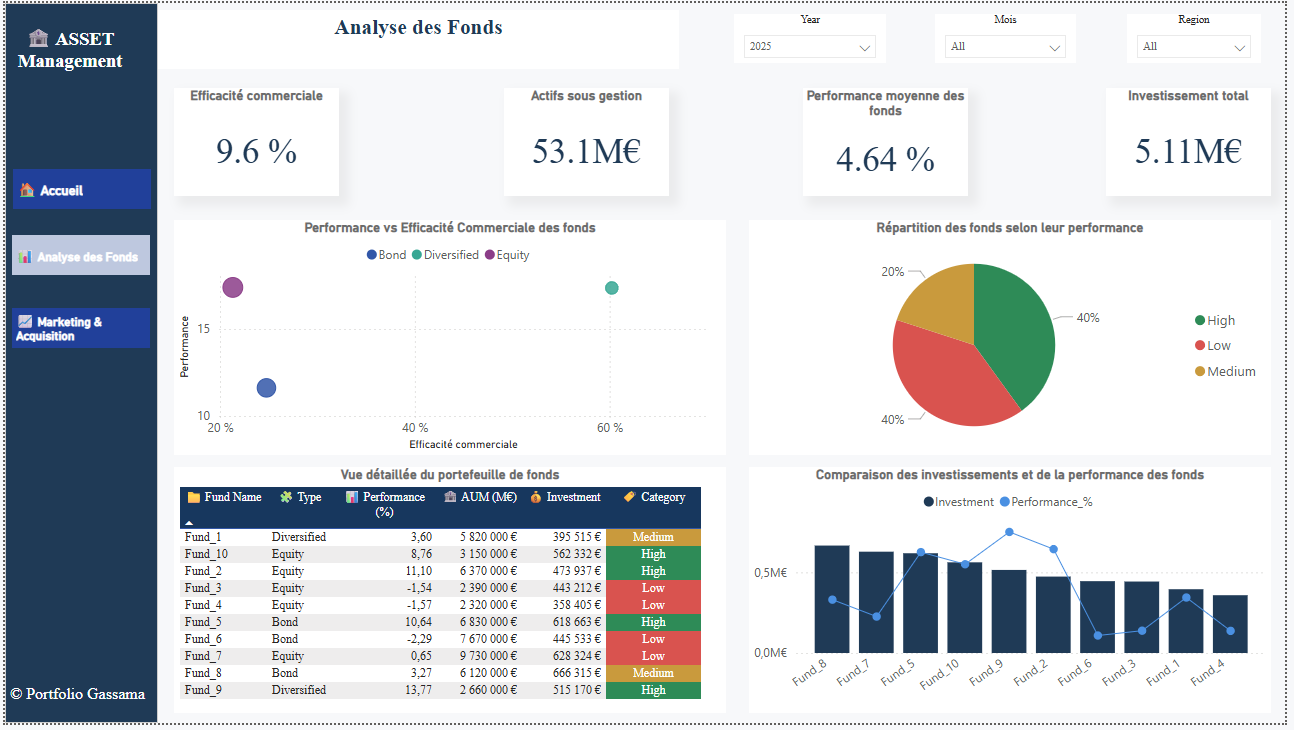

This screenshot's page, from the dashboard's own definition file:
{"tool":"powerbi","page":{"name":"Analyse des Fonds","canvas":[1280,720],"ordinal":1},"visuals":[{"type":"textbox","box":[153,7,521,59],"z":0},{"type":"slicer","title":"Year","fields":{"Values":["DimDate.Date.Variation.Date Hierarchy.Year"]},"box":[729,11,152,49],"z":1000},{"type":"slicer","title":"Mois","fields":{"Values":["DimDate.Date.Variation.Date Hierarchy.Month"]},"box":[930,11,141,49],"z":2000},{"type":"slicer","title":"Region","fields":{"Values":["Sales.Region"]},"box":[1122,11,134,49],"z":3000},{"type":"scatterChart","title":"Performance vs Efficacité Commerciale des fonds","fields":{"X":["Mesures_Principaux.Investment / AUM"],"Y":["Sum(Funds.Performance_%)"],"Size":["Mesures_Principaux.Total AUM"],"Series":["Funds.Type"]},"box":[169,217,552,235],"z":4000},{"type":"advanceCardE03760C5AB684758B56AA29F9E6C257B","title":"Efficacité commerciale","fields":{"mainMeasure":["Mesures_Principaux.Investment / AUM"]},"box":[169,85,165,108],"z":5000},{"type":"tableEx","title":"Vue détaillée du portefeuille de fonds","fields":{"Values":["Funds_Facts.Fund_Name","Funds.Type","Sum(Funds.Performance_%)","Sum(Funds.AUM_M€)","Sum(Sales.Investment_€)","Funds.Performance Category"]},"box":[169,464,552,246],"z":6000},{"type":"lineStackedColumnComboChart","title":"Comparaison des investissements et de la performance des fonds","fields":{"Y":["Mesures_Principaux.Total Investment"],"Y2":["Sum(Funds.Performance_%)"],"Category":["Funds_Facts.Fund_Name"]},"box":[744,464,522,246],"z":7000},{"type":"pieChart","title":"Répartition des fonds selon leur performance","fields":{"Y":["CountNonNull(Funds.Fund_ID)"],"Category":["Funds.Performance Category"]},"box":[744,217,522,235],"z":8000},{"type":"advanceCardE03760C5AB684758B56AA29F9E6C257B","title":"Investissement total","fields":{"mainMeasure":["Mesures_Principaux.Total Investment"]},"box":[1101,85,165,108],"z":9000},{"type":"advanceCardE03760C5AB684758B56AA29F9E6C257B","title":"Performance moyenne des fonds","fields":{"mainMeasure":["Mesures_Principaux.Average Performance"]},"box":[798,85,165,108],"z":10000},{"type":"advanceCardE03760C5AB684758B56AA29F9E6C257B","title":"Actifs sous gestion","fields":{"mainMeasure":["Mesures_Principaux.Total AUM"]},"box":[499,85,165,108],"z":11000},{"type":"shape","box":[0,0,153,720],"z":12000},{"type":"textbox","box":[0,0,130,96],"z":12001},{"type":"actionButton","box":[8,166,138,40],"z":12002},{"type":"actionButton","box":[7,232,138,40],"z":12003},{"type":"actionButton","box":[7,305,138,40],"z":12004},{"type":"textbox","box":[0,677,153,29],"z":12005}]}

Visuals, with their boxes in screenshot pixels (x1, y1, x2, y2), scaled from the page's 1280x720 canvas onto the 1294x730 screenshot:
textbox: box=[155, 7, 681, 67]
"Year" slicer: box=[737, 11, 891, 61]
"Mois" slicer: box=[940, 11, 1083, 61]
"Region" slicer: box=[1134, 11, 1270, 61]
"Performance vs Efficacité Commerciale des fonds" scatterChart: box=[171, 220, 729, 458]
"Efficacité commerciale" advanceCardE03760C5AB684758B56AA29F9E6C257B: box=[171, 86, 338, 196]
"Vue détaillée du portefeuille de fonds" tableEx: box=[171, 470, 729, 720]
"Comparaison des investissements et de la performance des fonds" lineStackedColumnComboChart: box=[752, 470, 1280, 720]
"Répartition des fonds selon leur performance" pieChart: box=[752, 220, 1280, 458]
"Investissement total" advanceCardE03760C5AB684758B56AA29F9E6C257B: box=[1113, 86, 1280, 196]
"Performance moyenne des fonds" advanceCardE03760C5AB684758B56AA29F9E6C257B: box=[807, 86, 974, 196]
"Actifs sous gestion" advanceCardE03760C5AB684758B56AA29F9E6C257B: box=[504, 86, 671, 196]
shape: box=[0, 0, 155, 729]
textbox: box=[0, 0, 131, 97]
actionButton: box=[8, 168, 148, 209]
actionButton: box=[7, 235, 147, 276]
actionButton: box=[7, 309, 147, 350]
textbox: box=[0, 686, 155, 716]
